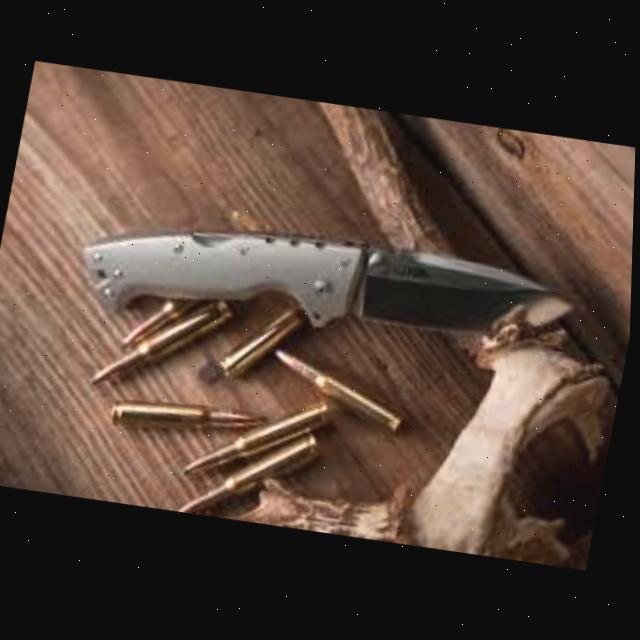Knife: (74, 194, 562, 378)
